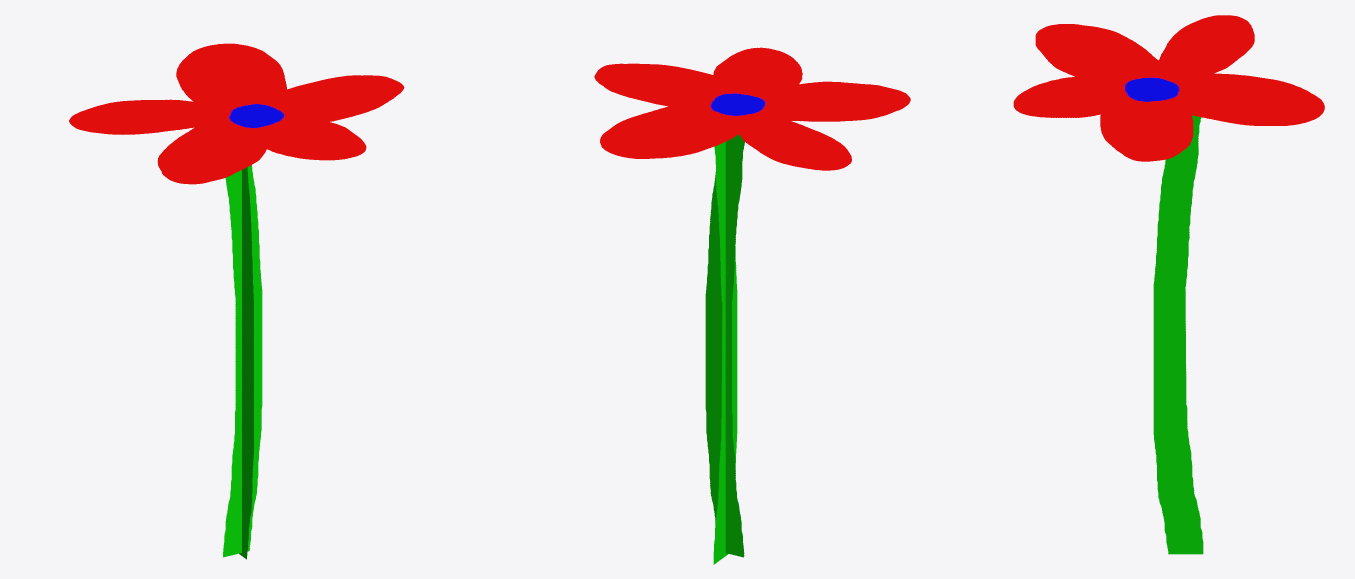
The model's file is FlowerBase_000.fbx.
The picture shows the model from 3 angles, left to right: view 1: azimuth 30°, elevation 25°; view 2: azimuth 150°, elevation 25°; view 3: azimuth 270°, elevation 25°; orthographic projection. The views are drawn at different scales.
Visible parts, largest first — view 1: Plane.001; view 2: Plane.001; view 3: Plane.001.
Boxes of the visible parts, <box> form: Plane.001: <box>69,43,404,559</box>; Plane.001: <box>594,47,910,564</box>; Plane.001: <box>1013,15,1324,554</box>.
Bounding box in the file's own units: 56.43 × 82.54 × 56.43.
